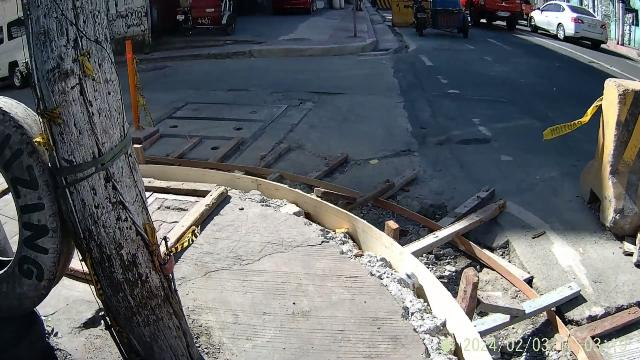construction_materials: (431, 195, 564, 360), (576, 67, 640, 241)
cracked_pavement: (212, 229, 332, 287)
utility_post: (24, 2, 200, 360)
